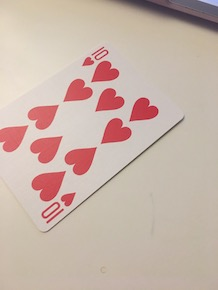TenOfHearts: (1, 38, 185, 233)
